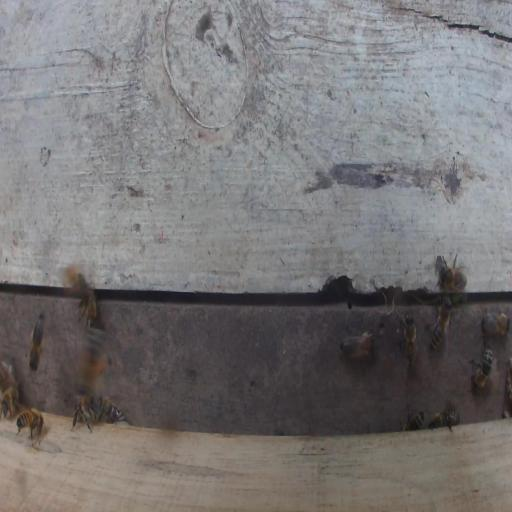bee: (78, 321, 107, 394), (71, 270, 98, 328), (395, 313, 419, 372), (428, 295, 452, 352), (339, 328, 375, 366), (435, 252, 468, 293), (468, 338, 493, 391), (26, 308, 46, 374), (15, 407, 46, 448), (71, 393, 95, 434), (0, 362, 19, 413), (94, 395, 125, 423), (480, 308, 510, 336), (428, 409, 461, 432), (1, 386, 19, 420), (402, 407, 425, 431)
